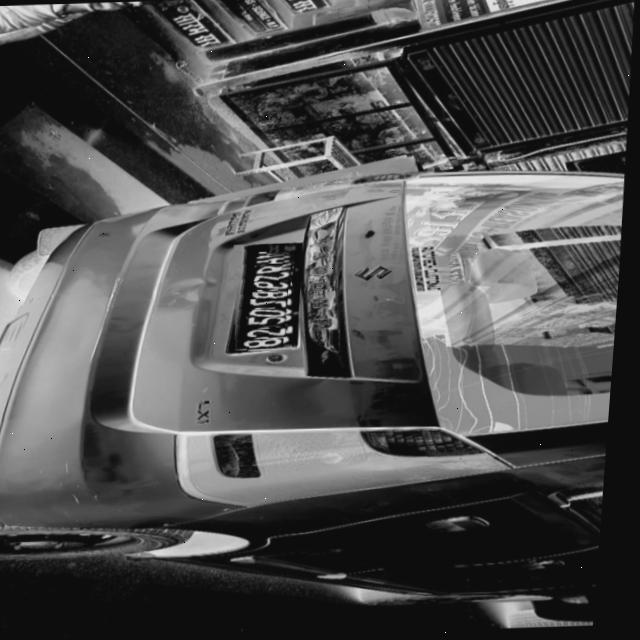0: (252, 308, 290, 319)
2: (257, 270, 295, 283), (249, 328, 290, 339)
5: (251, 316, 289, 329)
6: (256, 280, 294, 291)
8: (247, 338, 288, 350)
B: (255, 289, 291, 300)
H: (257, 254, 295, 266)
IND: (269, 244, 301, 257)
Indian_registered: (237, 244, 304, 352)
R: (257, 262, 296, 274)
Z: (253, 298, 291, 310)
